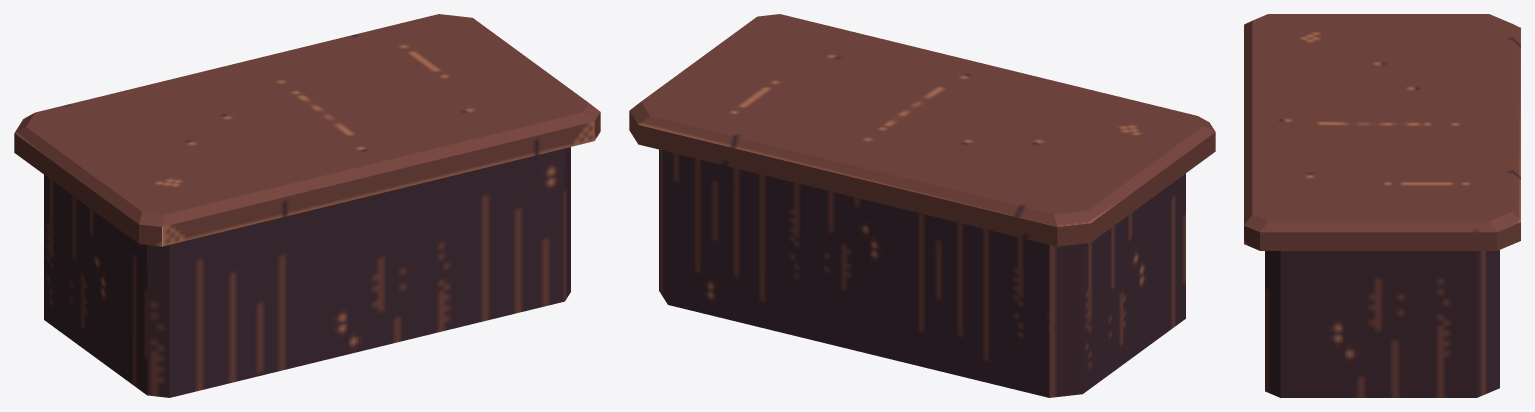
The model's file is GabineteMadeira2.fbx.
The picture shows the model from 3 angles, left to right: view 1: azimuth 30°, elevation 25°; view 2: azimuth 150°, elevation 25°; view 3: azimuth 270°, elevation 25°; orthographic projection. The views are drawn at different scales.
Parts seen in each view (by area): view 1: GabineteMadeira2; view 2: GabineteMadeira2; view 3: GabineteMadeira2.
Part boxes in pixels (x1,y1,x2,y2): GabineteMadeira2: (14,14,600,397); GabineteMadeira2: (629,14,1215,397); GabineteMadeira2: (1244,14,1520,397).
Size of the model in its own units: 195 by 106 by 77.04.
